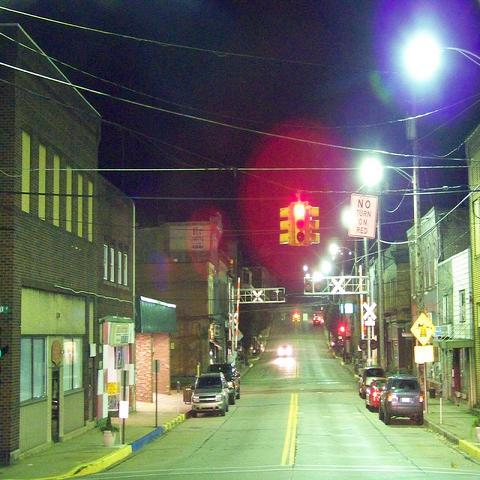car: (379, 374, 424, 425), (191, 373, 229, 418), (207, 363, 241, 405), (366, 376, 387, 412), (359, 365, 385, 394), (276, 343, 294, 356), (311, 313, 325, 326)
truck: (206, 363, 241, 405)
